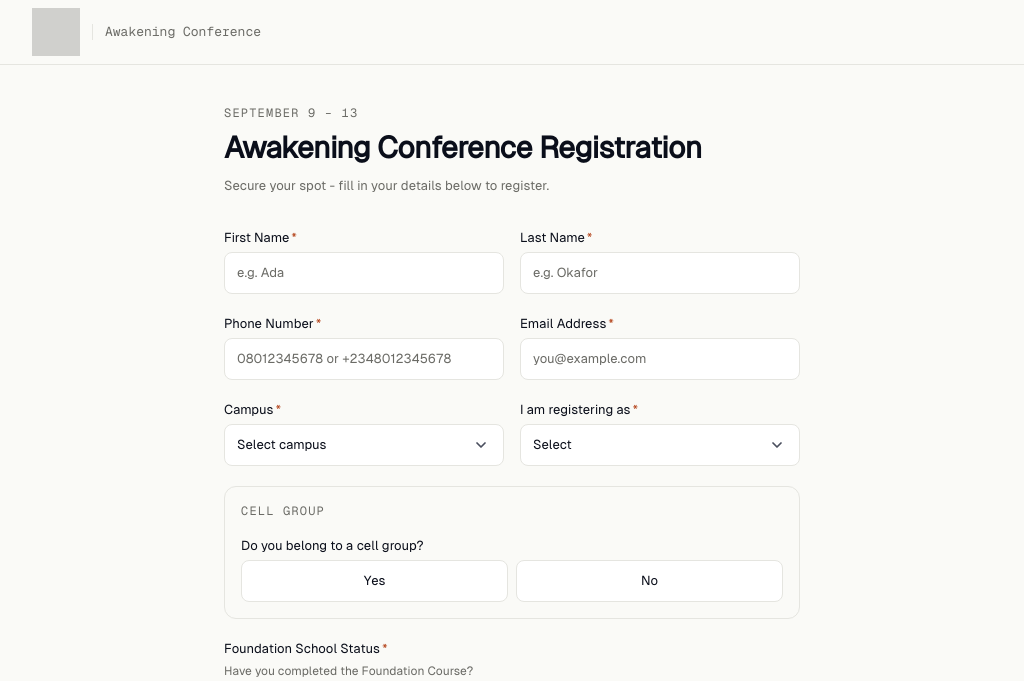
Test: AwakeningRegistration › checks a completed phone number and blocks a duplicate
Type "08012345678" into the field labelled "Phone Number*". click: (364, 359)
box: [224,338,504,380]
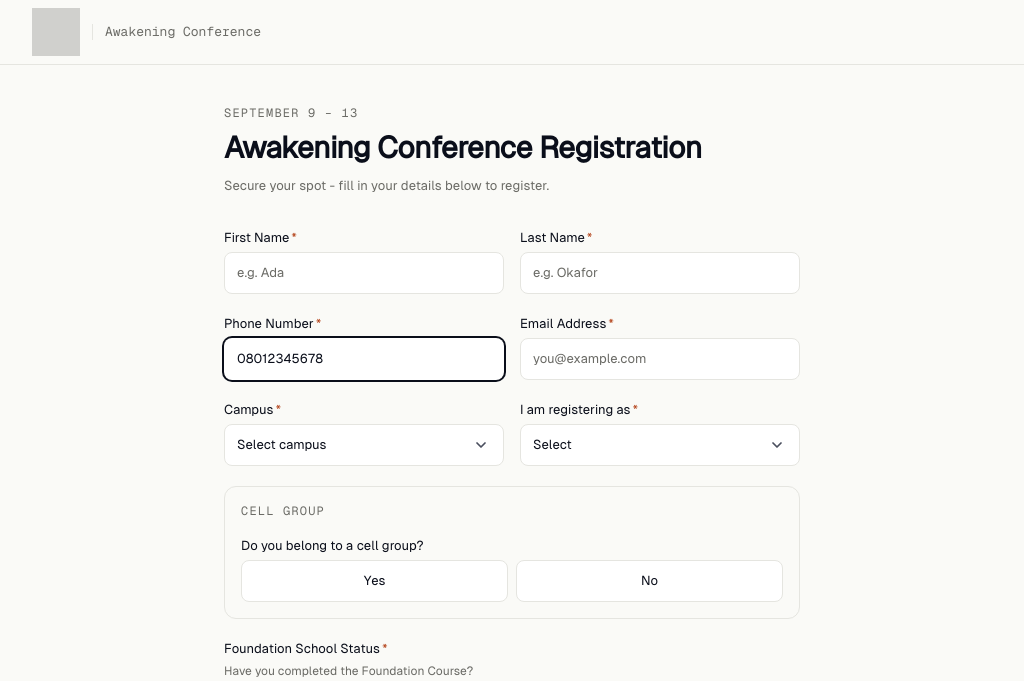
Press Tab
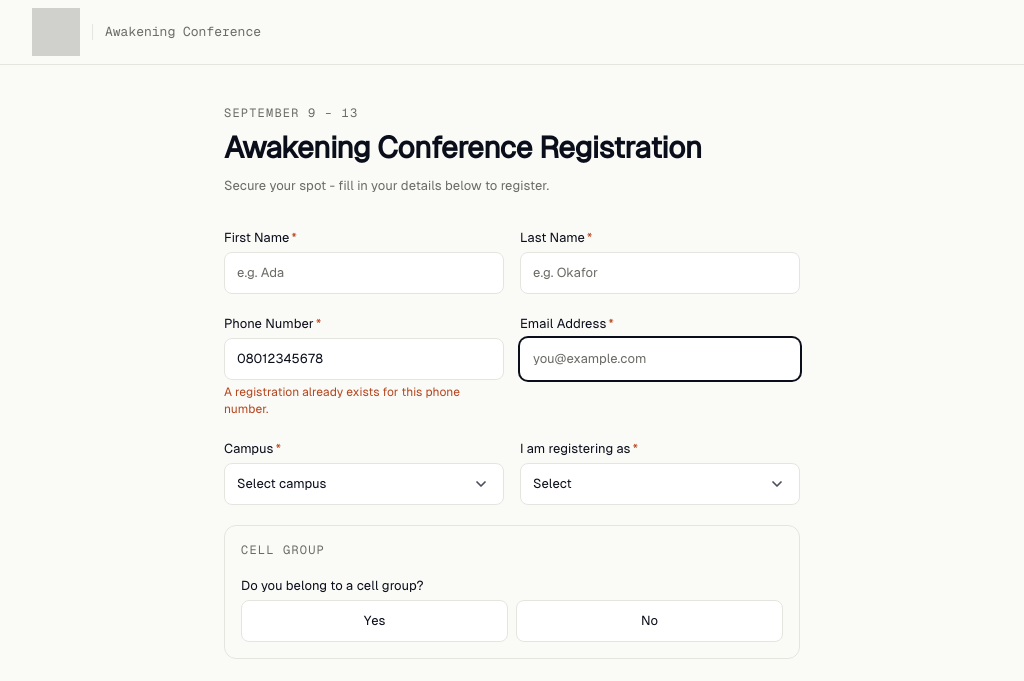
Expected: the text "A registration already exists for this phone number." is shown, [224,385,460,416]
